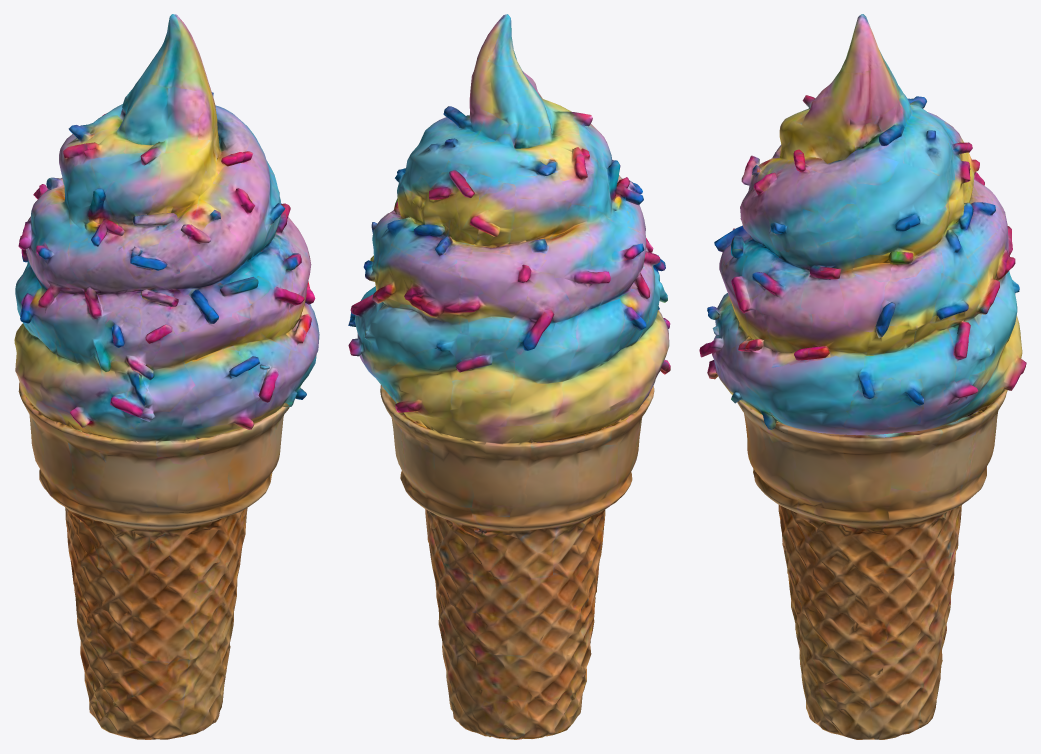
The picture shows the model from 3 angles, left to right: view 1: azimuth 30°, elevation 25°; view 2: azimuth 150°, elevation 25°; view 3: azimuth 270°, elevation 25°; orthographic projection.
Bounding box in the file's own units: 0.7918 × 1.9 × 0.7962.
Materials: 1 (1 with a texture image).
